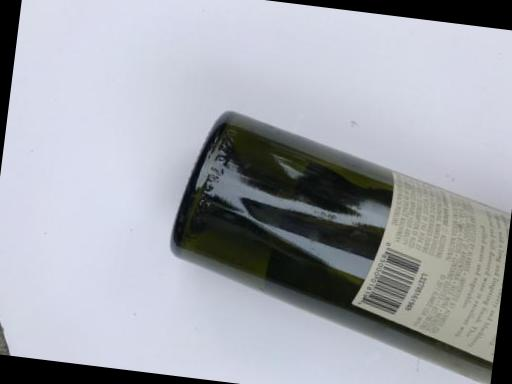glass: (105, 81, 512, 384)
